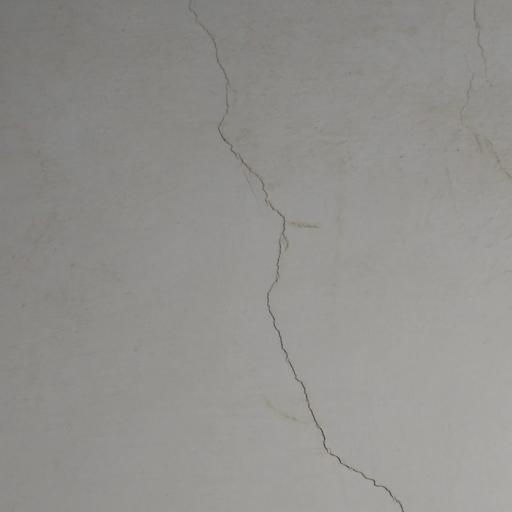major_crack: (156, 0, 424, 512)
